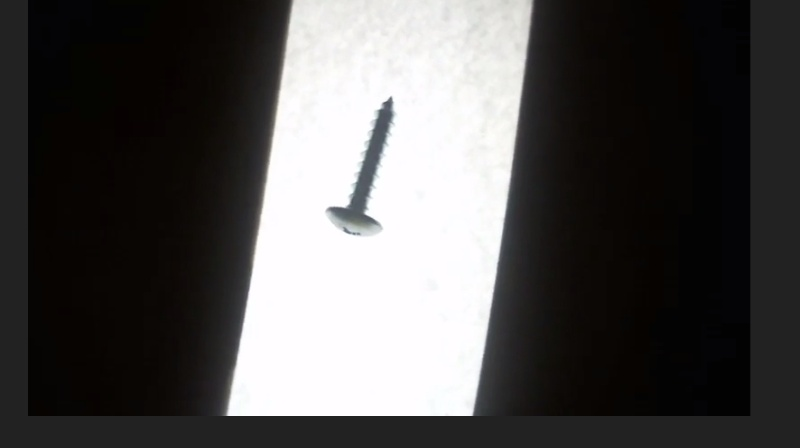S003: (322, 94, 396, 242)
